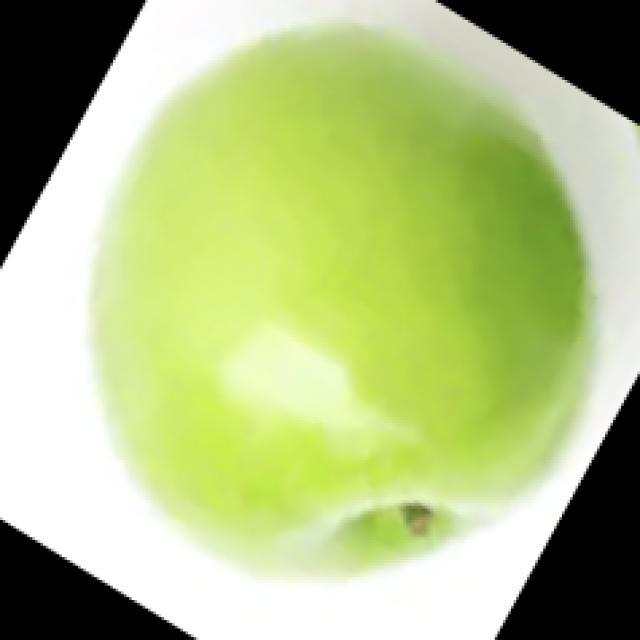Fresh Apple: (91, 29, 616, 624)
